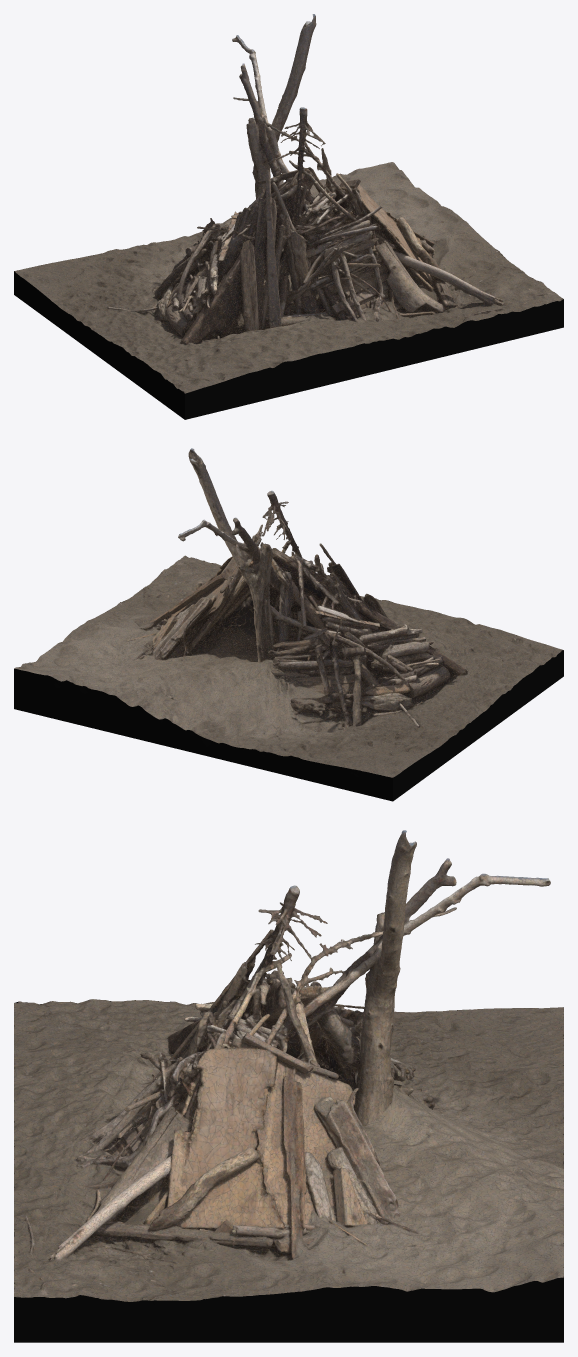
Rendered from sf-driftwood-beach-hut-18dea0.glb.
3 renders of one model, top to bottom at view 1: azimuth 30°, elevation 25°; view 2: azimuth 150°, elevation 25°; view 3: azimuth 270°, elevation 25°, orthographic. The views are drawn at different scales.
Visible parts, largest first — view 1: 20230405_driftwood_hut_high_20230405_driftwood_hut_high_0, 20230405_driftwood_hut_high_base_20230405_driftwood_hut_high; view 2: 20230405_driftwood_hut_high_20230405_driftwood_hut_high_0, 20230405_driftwood_hut_high_base_20230405_driftwood_hut_high; view 3: 20230405_driftwood_hut_high_20230405_driftwood_hut_high_0, 20230405_driftwood_hut_high_base_20230405_driftwood_hut_high.
Boxes of the visible parts, x1=… form: 20230405_driftwood_hut_high_20230405_driftwood_hut_high_0: x1=14, y1=14, x2=563, y2=393; 20230405_driftwood_hut_high_base_20230405_driftwood_hut_high: x1=14, y1=174, x2=563, y2=419; 20230405_driftwood_hut_high_20230405_driftwood_hut_high_0: x1=14, y1=448, x2=563, y2=777; 20230405_driftwood_hut_high_base_20230405_driftwood_hut_high: x1=14, y1=563, x2=563, y2=801; 20230405_driftwood_hut_high_20230405_driftwood_hut_high_0: x1=14, y1=830, x2=563, y2=1301; 20230405_driftwood_hut_high_base_20230405_driftwood_hut_high: x1=14, y1=1000, x2=563, y2=1342.
Size of the model in its own units: 3.78 by 2.44 by 2.95.
Materials: 2 (1 with a texture image).
